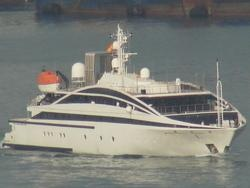yacht: (4, 23, 245, 158)
